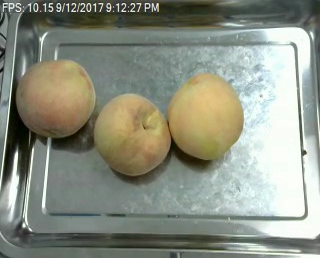Peach: (168, 72, 244, 160), (92, 92, 170, 176), (15, 58, 96, 137)
